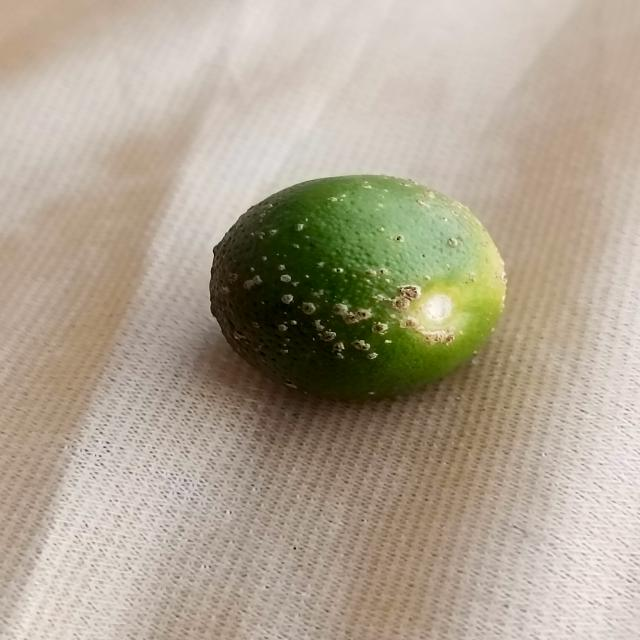scab: (208, 164, 525, 392)
